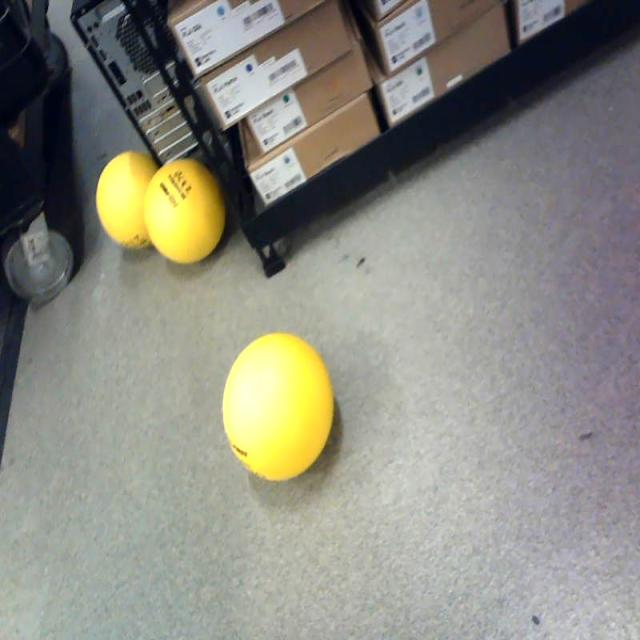Fuel: (223, 333, 334, 482), (144, 159, 226, 264), (96, 150, 163, 249)
